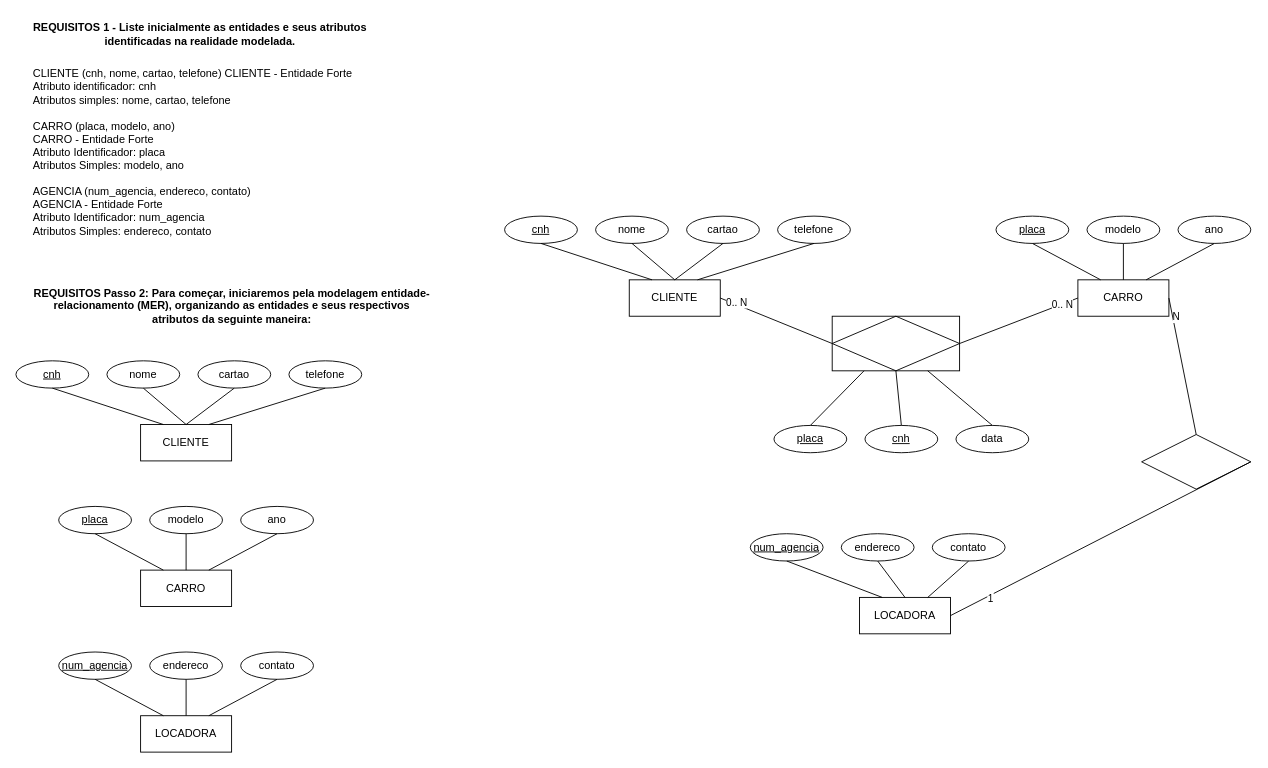
The diagram is 1268 pixels wide and 768 high, and some of its shapes have lost their labels. Here are the shapes that lost their labels. From the top down, the box of each, then its label:
(831, 315, 960, 371): ALUGA
(1141, 434, 1251, 489): PERTENCE
